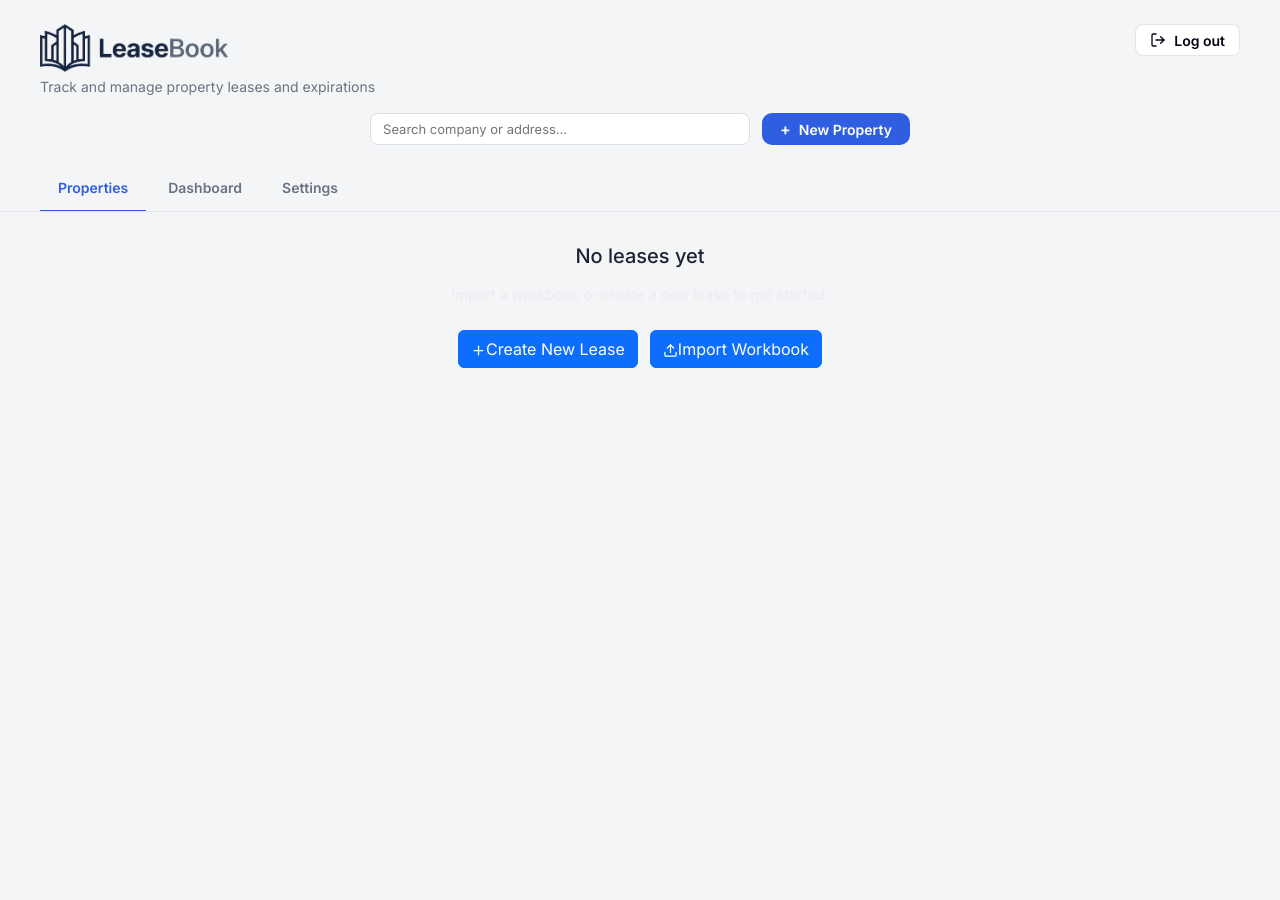
Test case: App auth flow › creates a passkey from Settings through the browser ceremony
What coordinates should you click on to do the following:
click the button "Settings"
I would click on:
 (310, 188)
Its box is [264,165,356,212].
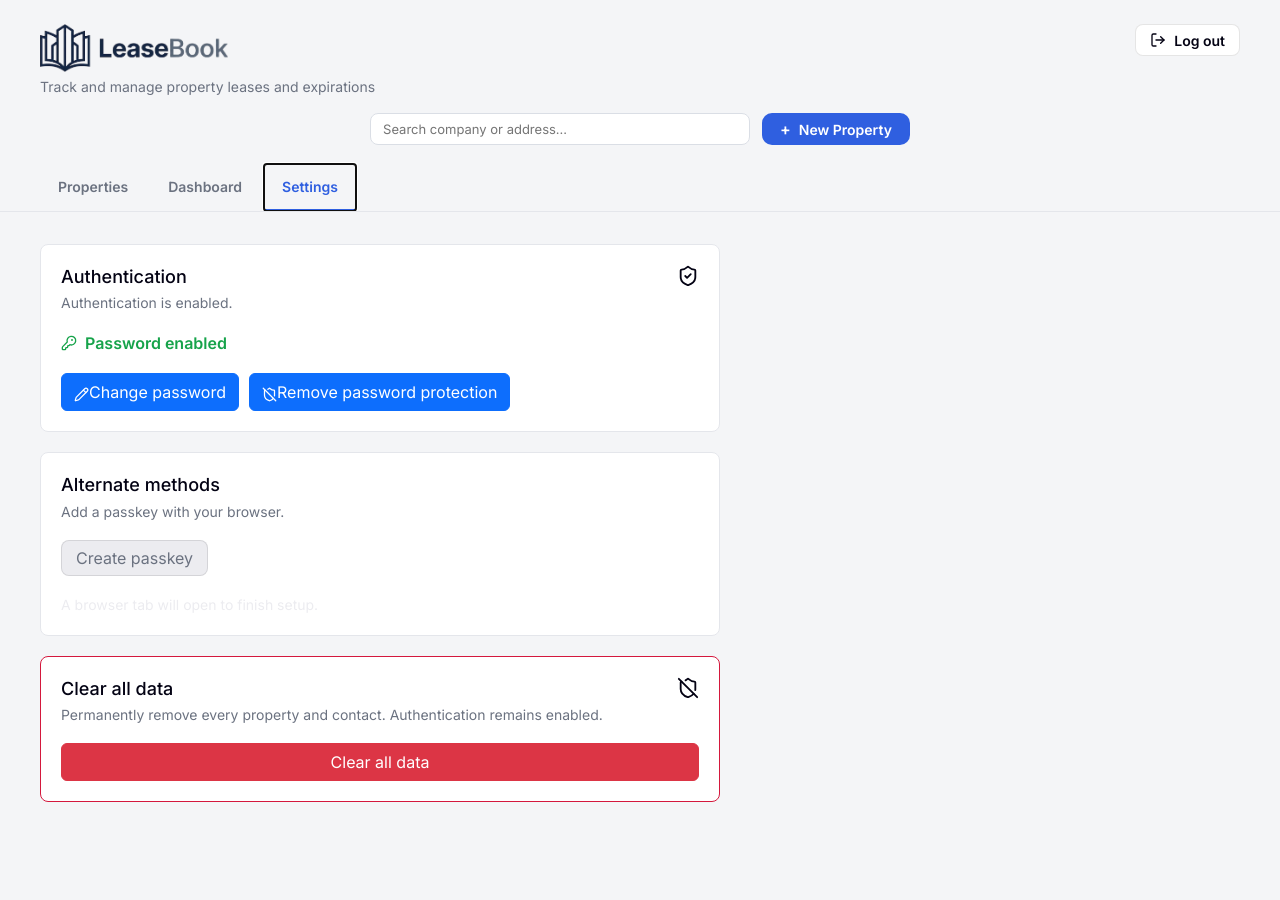
What coordinates should you click on to do the following:
click the button "Create passkey"
I would click on:
 (135, 558)
Its box is [61,540,208,576].
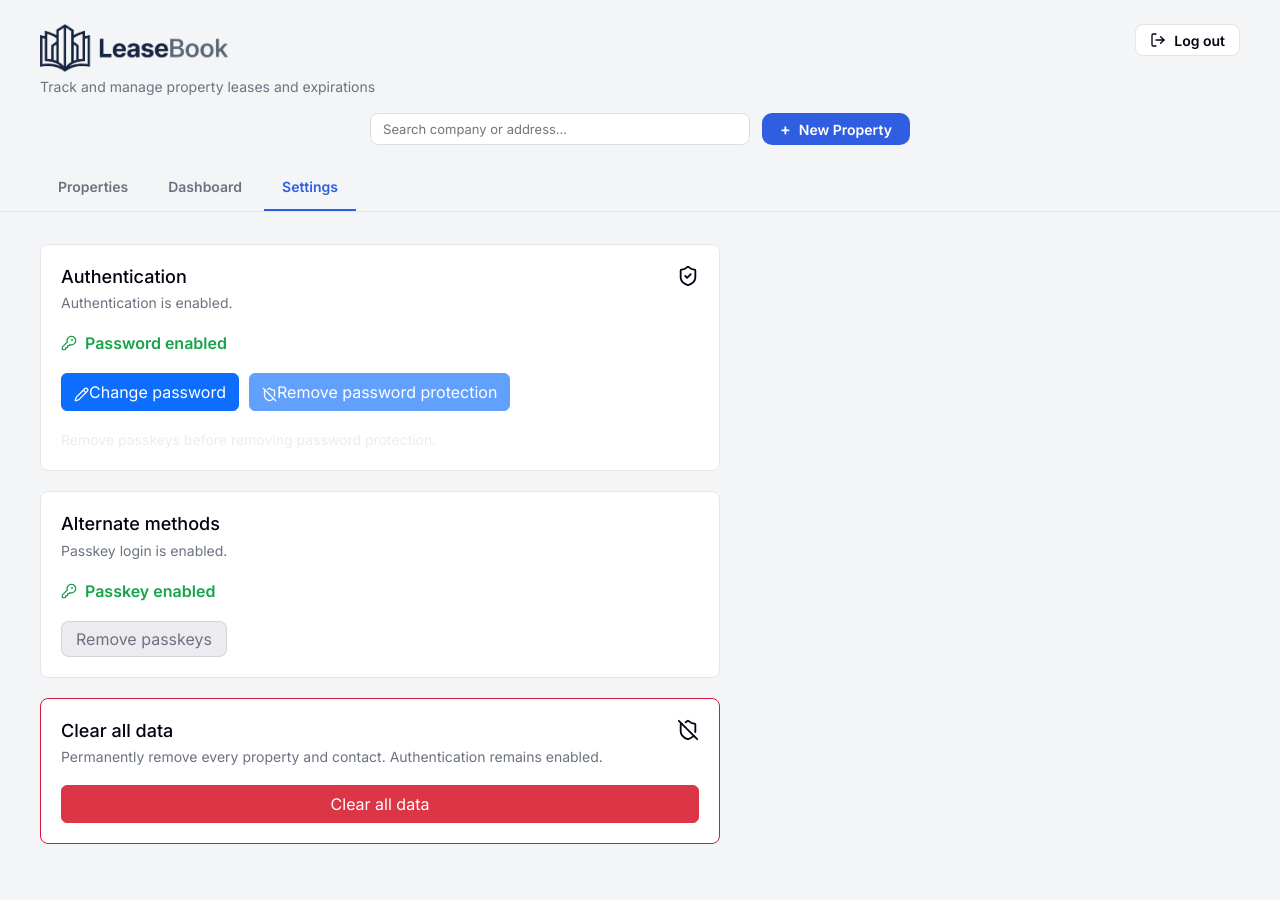
Result: the text "Passkey enabled" is shown at [61,581,215,601]
